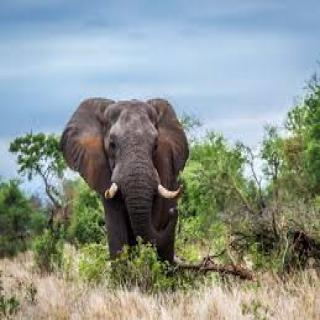Elephant: (60, 92, 190, 272)
